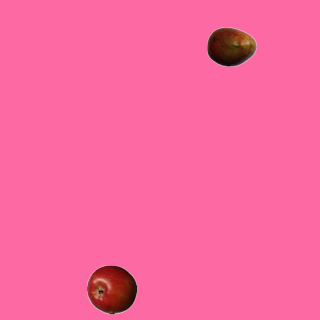Apple Braeburn: (86, 264, 136, 314)
Mango Red: (206, 21, 256, 71)
